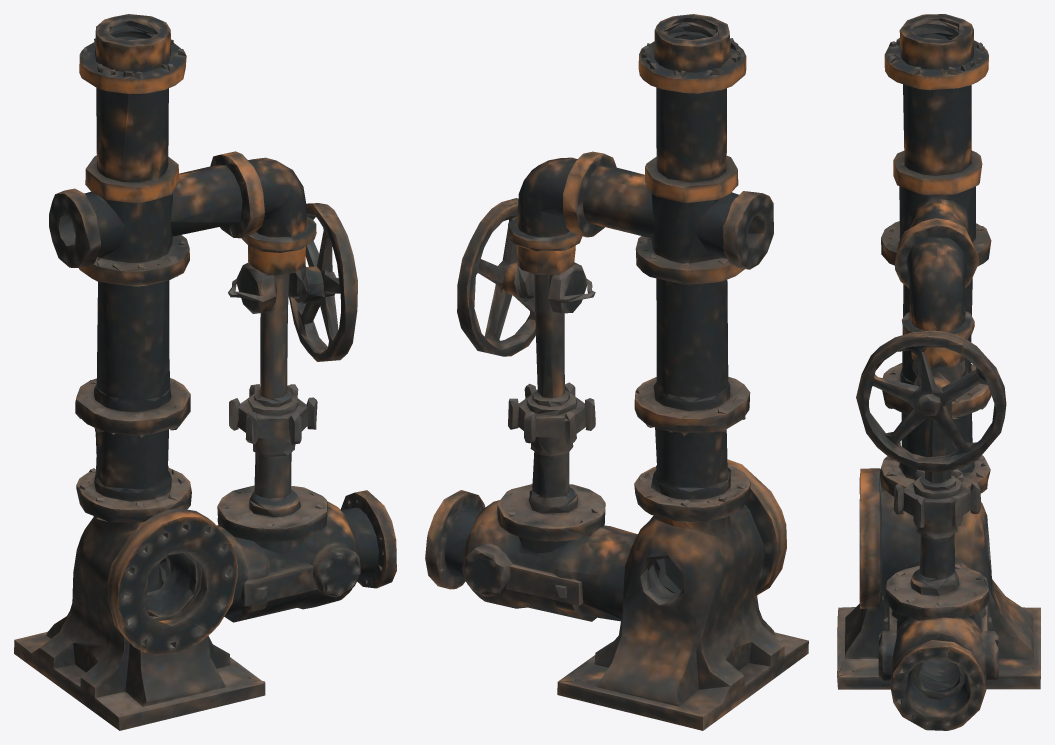
The model's file is fg_pipe_stand_valve.glb.
3 views of the same model, side by side, from view 1: azimuth 30°, elevation 25°; view 2: azimuth 150°, elevation 25°; view 3: azimuth 270°, elevation 25° (orthographic). The views are drawn at different scales.
Parts seen in each view (by area): view 1: main; view 2: main; view 3: main.
Part boxes in pixels (x1,y1,x2,y2): main: (14, 14, 396, 730); main: (425, 14, 808, 730); main: (837, 14, 1040, 730).
Size of the model in its own units: 1.55 by 3.1 by 0.9185.
1 material, 1 textured.
